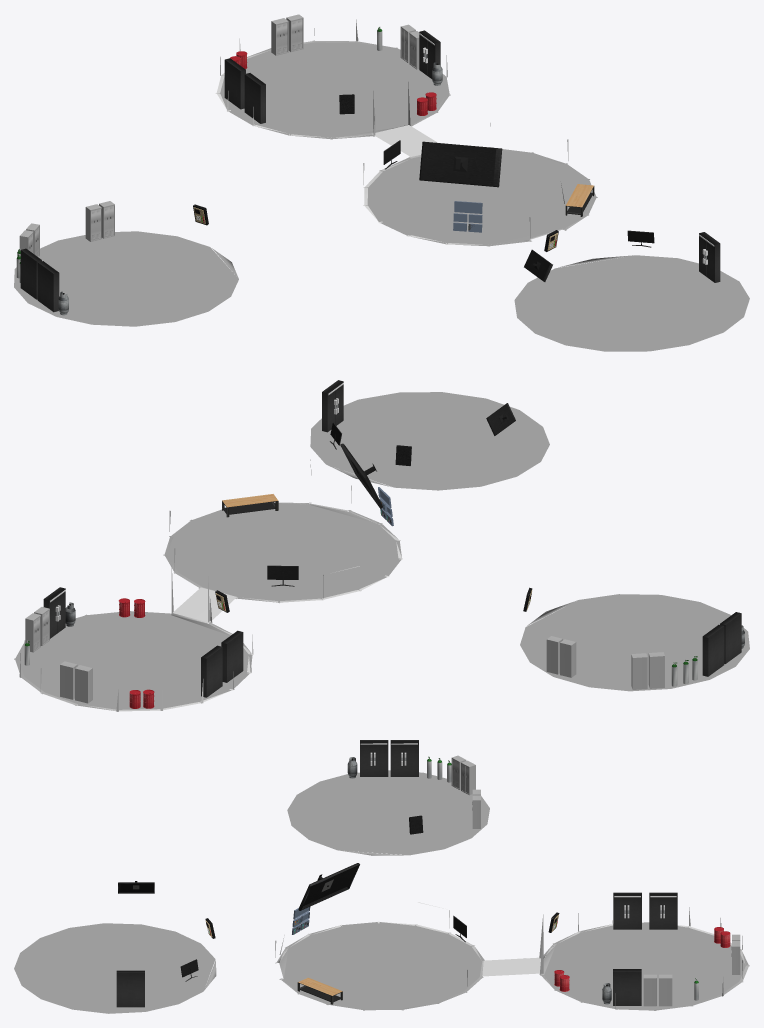
The model's file is metalicos.fbx.
The picture shows the model from 3 angles, top to bottom: view 1: azimuth 30°, elevation 25°; view 2: azimuth 150°, elevation 25°; view 3: azimuth 270°, elevation 25°; orthographic projection. The views are drawn at different scales.
Visible parts, largest first — view 1: piso_domo_3, piso_domo_1, piso_domo_4, piso_domo_2, Pantalla_1, Plano.016, Cube.042, Cube.043, Cube.047, Cube.044, panel_metal.001, Cube.045 (+5 smaller); view 2: piso_domo_2, piso_domo_3, piso_domo_1, piso_domo_4, Plano.016, Cube.001, Cube.043, Cube.044, Cube.047, Cube.080, Cube.042, Cube.045 (+6 smaller); view 3: piso_domo_2, piso_domo_3, piso_domo_4, piso_domo_1, Pantalla_1, Cube.043, Cube.044, Cube.047, Cube.001, Cube.042, Cube.045, Plano.016 (+2 smaller).
Boxes of the visible parts, x1=… form: piso_domo_3: x1=514, y1=255, x2=749, y2=351; piso_domo_1: x1=215, y1=19, x2=450, y2=139; piso_domo_4: x1=14, y1=231, x2=238, y2=326; piso_domo_2: x1=363, y1=123, x2=597, y2=246; Pantalla_1: x1=419, y1=141, x2=502, y2=187; Plano.016: x1=372, y1=125, x2=437, y2=156; Cube.042: x1=37, y1=261, x2=59, y2=312; Cube.043: x1=244, y1=73, x2=265, y2=123; Cube.047: x1=699, y1=232, x2=720, y2=282; Cube.044: x1=224, y1=58, x2=245, y2=109; panel_metal.001: x1=453, y1=201, x2=482, y2=232; Cube.045: x1=419, y1=30, x2=440, y2=78; piso_domo_2: x1=163, y1=459, x2=402, y2=603; piso_domo_3: x1=310, y1=392, x2=549, y2=490; piso_domo_1: x1=14, y1=565, x2=253, y2=711; piso_domo_4: x1=520, y1=594, x2=749, y2=691; Plano.016: x1=173, y1=587, x2=236, y2=622; Cube.001: x1=702, y1=624, x2=724, y2=676; Cube.043: x1=221, y1=630, x2=243, y2=682; Cube.044: x1=201, y1=645, x2=222, y2=697; Cube.047: x1=322, y1=380, x2=343, y2=432; Cube.080: x1=222, y1=494, x2=278, y2=517; Cube.042: x1=720, y1=612, x2=741, y2=663; Cube.045: x1=43, y1=587, x2=65, y2=638; piso_domo_2: x1=275, y1=902, x2=484, y2=1010; piso_domo_3: x1=14, y1=923, x2=216, y2=1013; piso_domo_4: x1=287, y1=770, x2=489, y2=855; piso_domo_1: x1=523, y1=907, x2=749, y2=1010; Pantalla_1: x1=298, y1=863, x2=359, y2=910; Cube.043: x1=613, y1=892, x2=641, y2=929; Cube.044: x1=649, y1=892, x2=677, y2=929; Cube.047: x1=116, y1=970, x2=144, y2=1007; Cube.001: x1=390, y1=740, x2=418, y2=776; Cube.042: x1=360, y1=740, x2=388, y2=776; Cube.045: x1=613, y1=969, x2=641, y2=1005; Plano.016: x1=482, y1=957, x2=540, y2=976.
Bounding box in the file's own units: 12142 × 1721 × 15497.
Materials: 192 (192 with a texture image).
